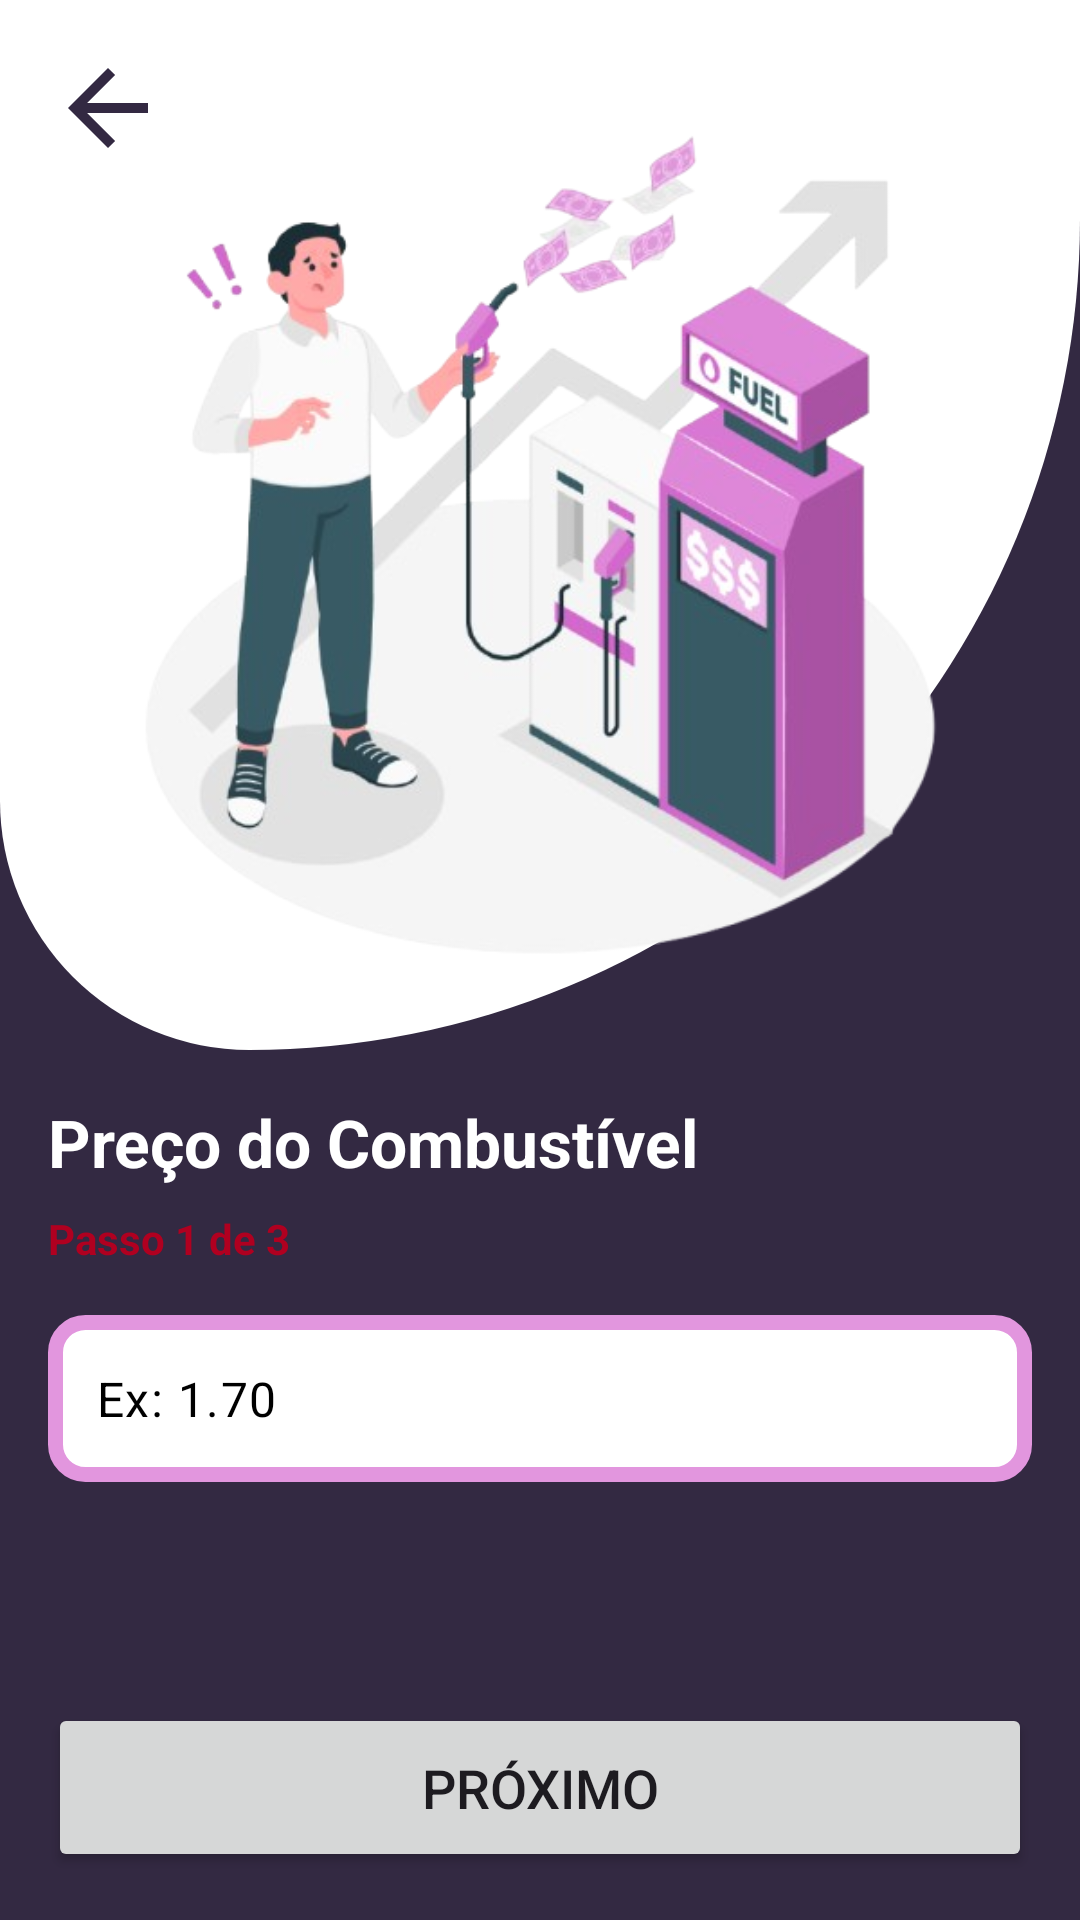

Where to tap for icons on this 1080 x 1920 app screen, as (x,y):
arrow back: (108,108)
